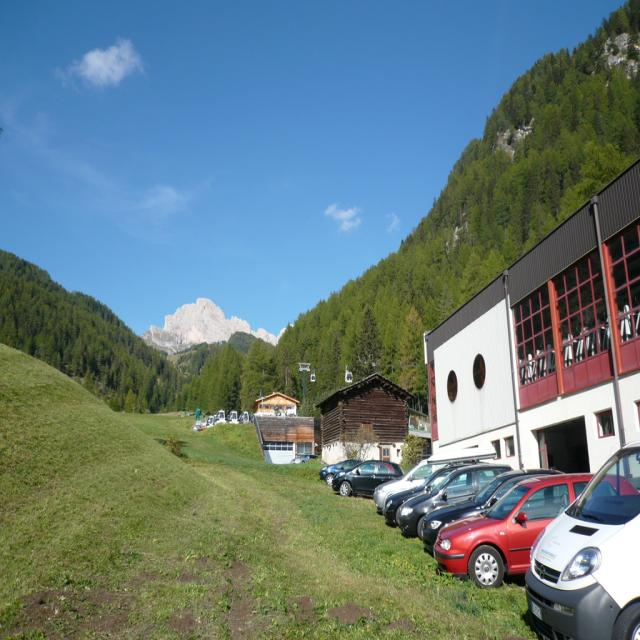car: (291, 449, 317, 459)
